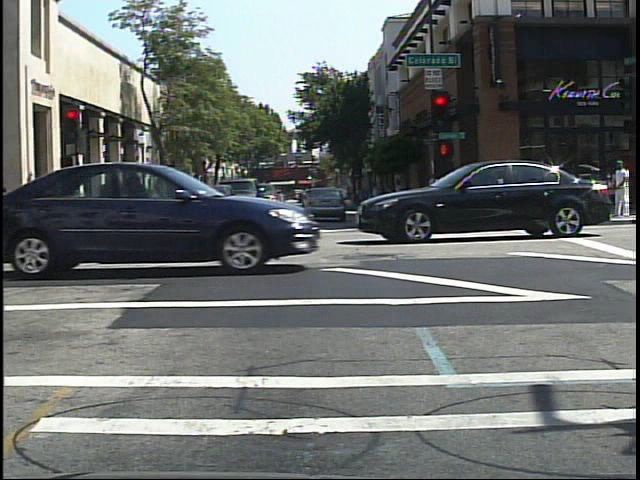person: (609, 156, 636, 221)
